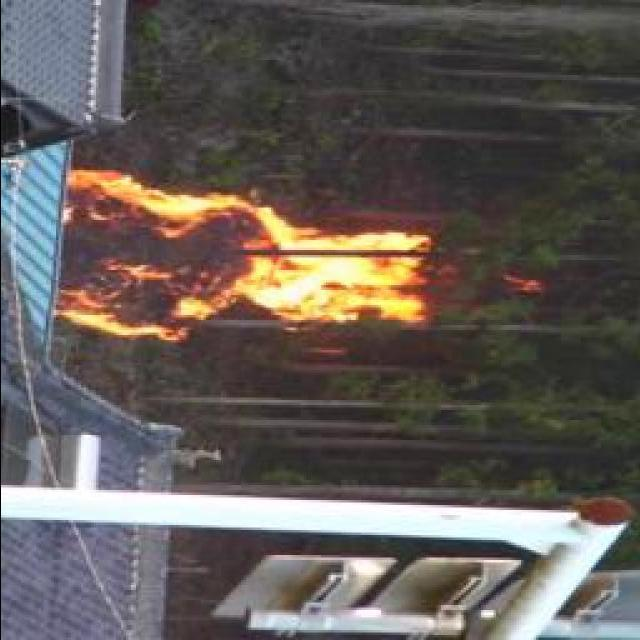Fire: (52, 169, 438, 355)
